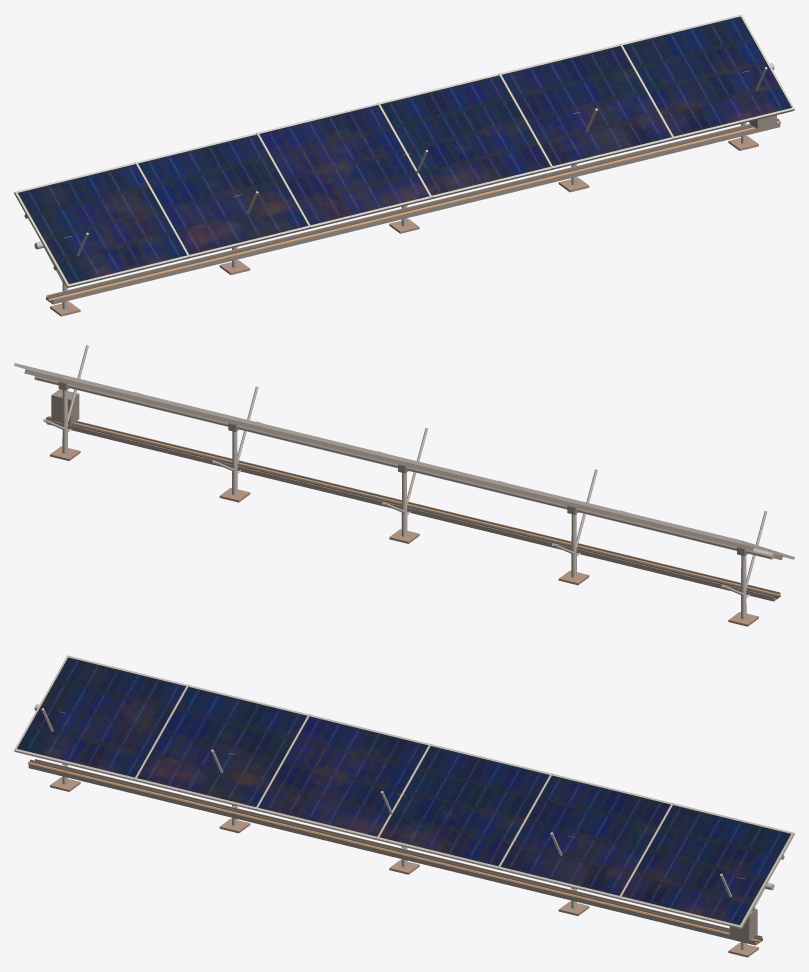
File: E02_solar_row_15m.glb
3 views of the same model, one above another, from view 1: azimuth 30°, elevation 25°; view 2: azimuth 150°, elevation 25°; view 3: azimuth 330°, elevation 25° (orthographic).
Visible parts, largest first — view 1: solar_cells, panel_frame, purlin, cable, post_foot; view 2: purlin, panel_frame, cable, post_foot; view 3: solar_cells, panel_frame, purlin, cable, post_foot.
Part boxes in pixels (bbox=[...]): solar_cells: bbox=[18, 16, 791, 283]; panel_frame: bbox=[14, 14, 794, 309]; purlin: bbox=[24, 70, 780, 304]; cable: bbox=[46, 118, 780, 301]; post_foot: bbox=[50, 136, 758, 316]; purlin: bbox=[24, 369, 782, 601]; panel_frame: bbox=[14, 345, 794, 619]; cable: bbox=[46, 416, 780, 598]; post_foot: bbox=[50, 446, 758, 626]; solar_cells: bbox=[17, 657, 790, 924]; panel_frame: bbox=[14, 655, 794, 950]; purlin: bbox=[28, 711, 784, 945]; cable: bbox=[28, 759, 762, 942]; post_foot: bbox=[50, 777, 758, 957].
Bounding box in the file's own units: 15.2 × 2.08 × 1.94.
Materials: 5 (1 with a texture image).
